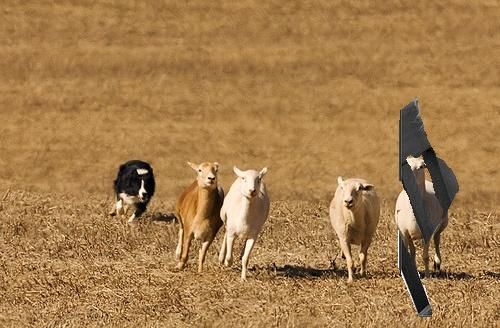tampered: (399, 98, 459, 317)
